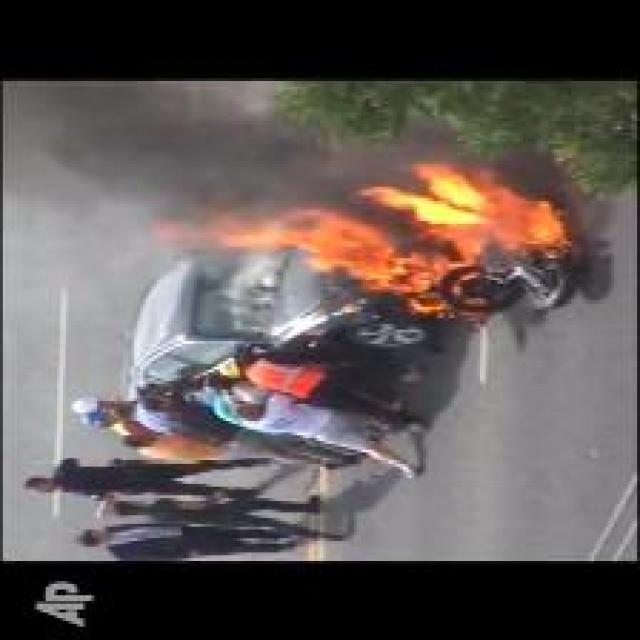Fire: (152, 164, 572, 316)
